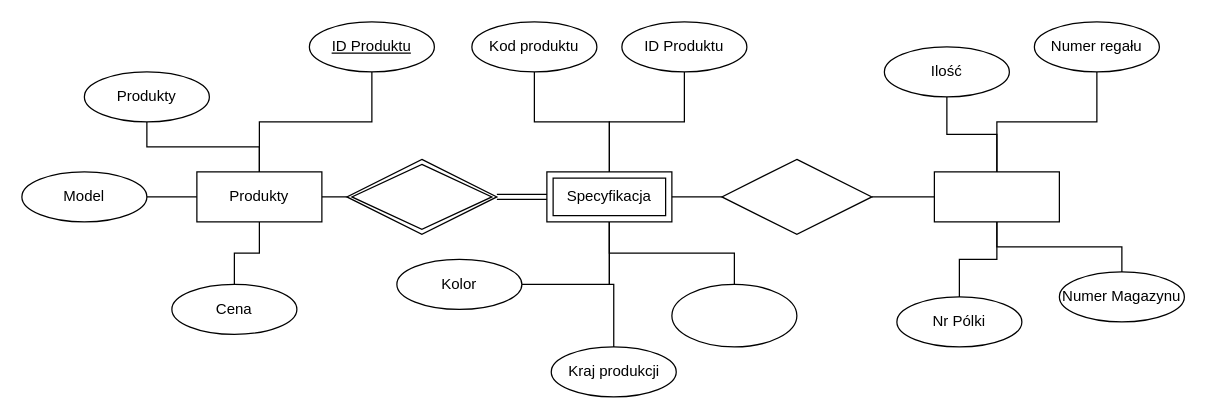
Image size: 1206x419. Some labels were removed from this diagram. The shapes that lost their labels are listed below. From the top down, each one's centre as x and y in pixels, then its label:
(x=421, y=196): PS
(x=796, y=196): SL
(x=996, y=196): Lokalizacja
(x=734, y=315): Kategoria
